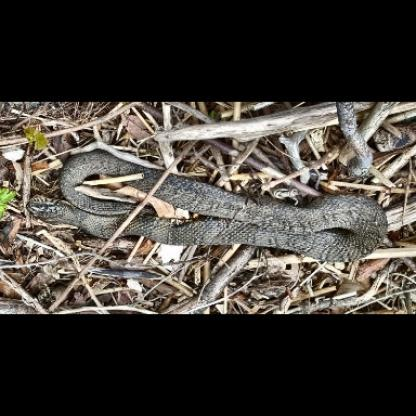Snake: (20, 146, 393, 266)
